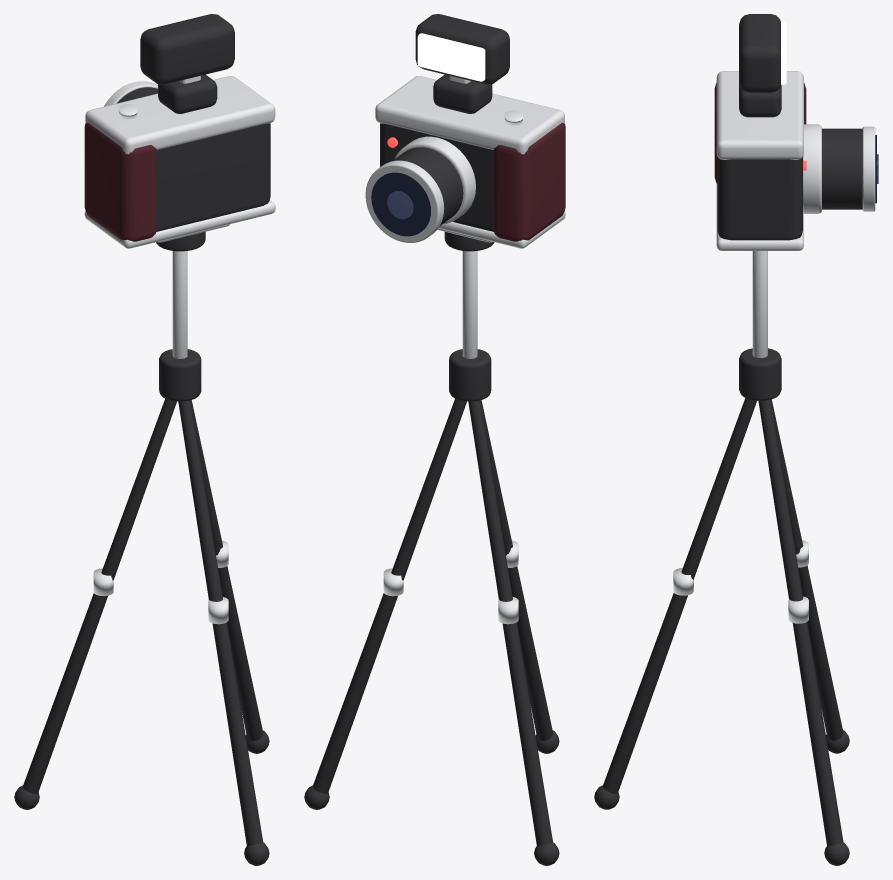
Rendered from camera.glb.
The picture shows the model from 3 angles, left to right: view 1: azimuth 30°, elevation 25°; view 2: azimuth 150°, elevation 25°; view 3: azimuth 270°, elevation 25°; orthographic projection.
Visible parts, largest first — view 1: camera; view 2: camera; view 3: camera.
Part boxes in pixels (box(x1,y1,x2,y2)): camera: box(14, 14, 275, 865); camera: box(304, 14, 565, 865); camera: box(594, 14, 878, 865).
Bounding box in the file's own units: 0.6836 × 2.03 × 0.6681.
